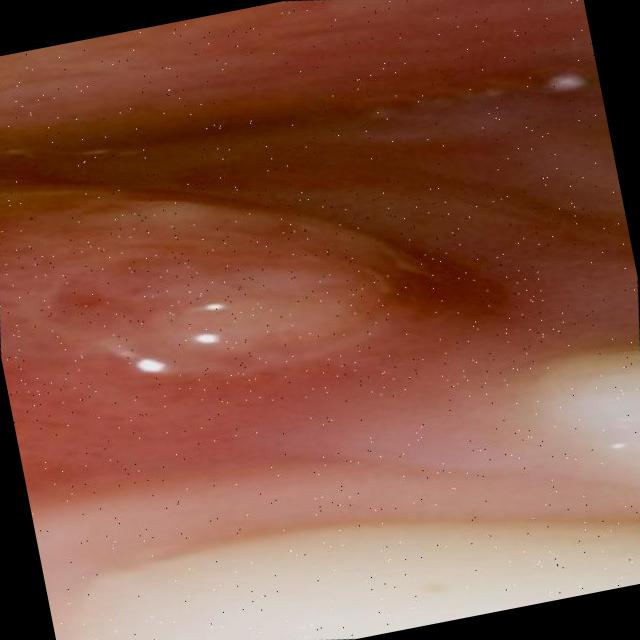abscess: (0, 113, 579, 490)
